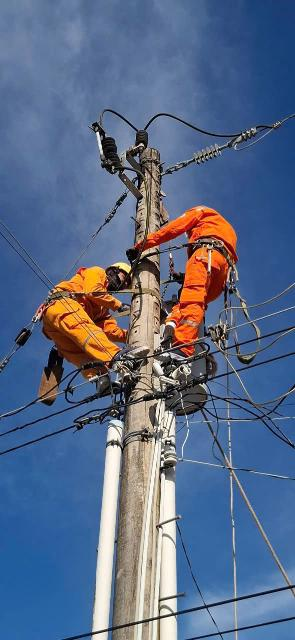gloves: (122, 242, 145, 267), (119, 298, 139, 321), (170, 266, 192, 284)
harness: (178, 233, 241, 273), (32, 281, 105, 310)
helmet: (103, 255, 140, 283)
shoes: (103, 340, 157, 367), (151, 346, 198, 367), (92, 373, 130, 394), (153, 321, 184, 340)
